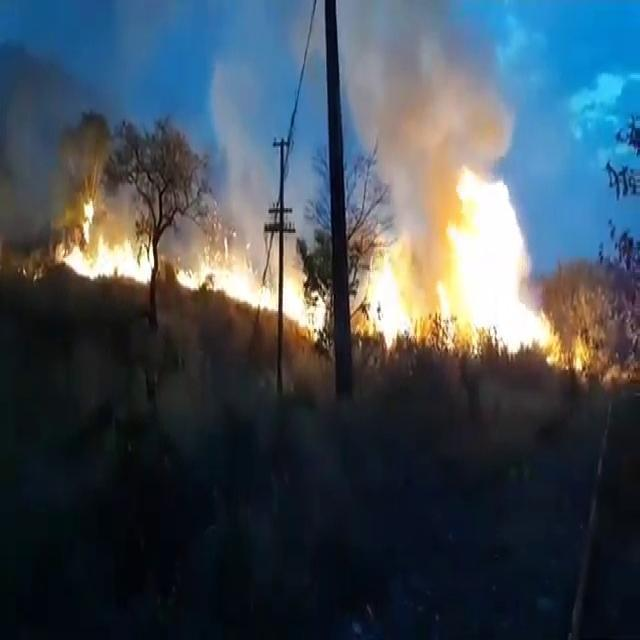Fire: (368, 183, 559, 350), (174, 247, 324, 333), (61, 192, 152, 284)
Smoke: (348, 2, 507, 238), (11, 19, 162, 248), (203, 5, 312, 247)
